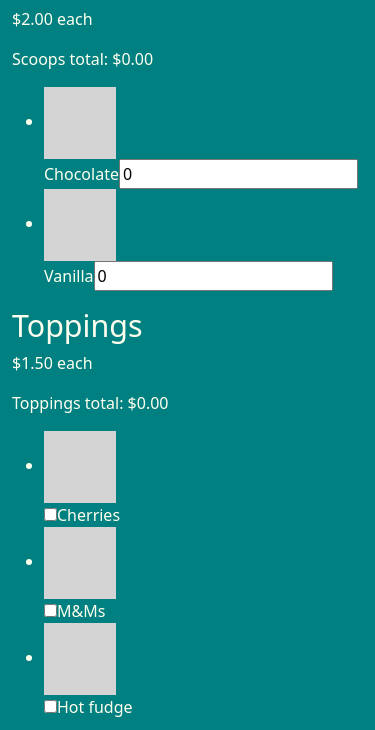
Test: Grand total › update grand total on scoops change
Replace the text in the number field labelled "Vanilla" with "2" at (213, 276), box [94,260,332,290]
(page scrolled)
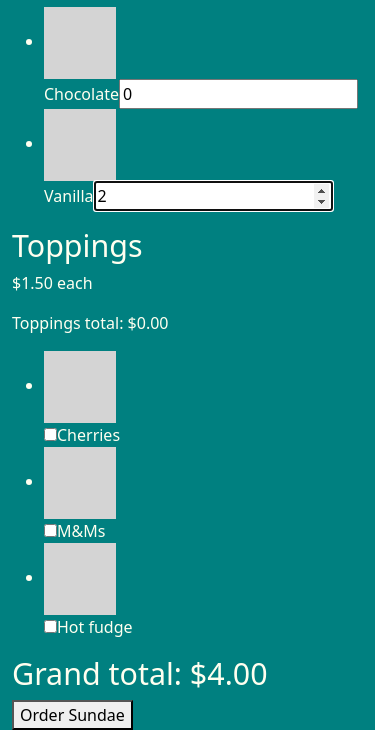
Expected: the heading "Grand total: $4.00" is shown, [12,652,268,694]
